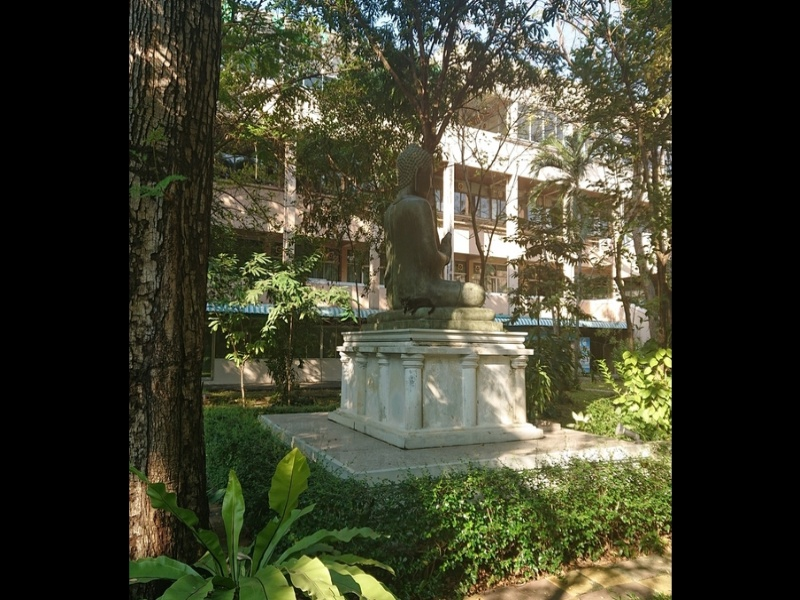cat: (398, 294, 437, 315)
